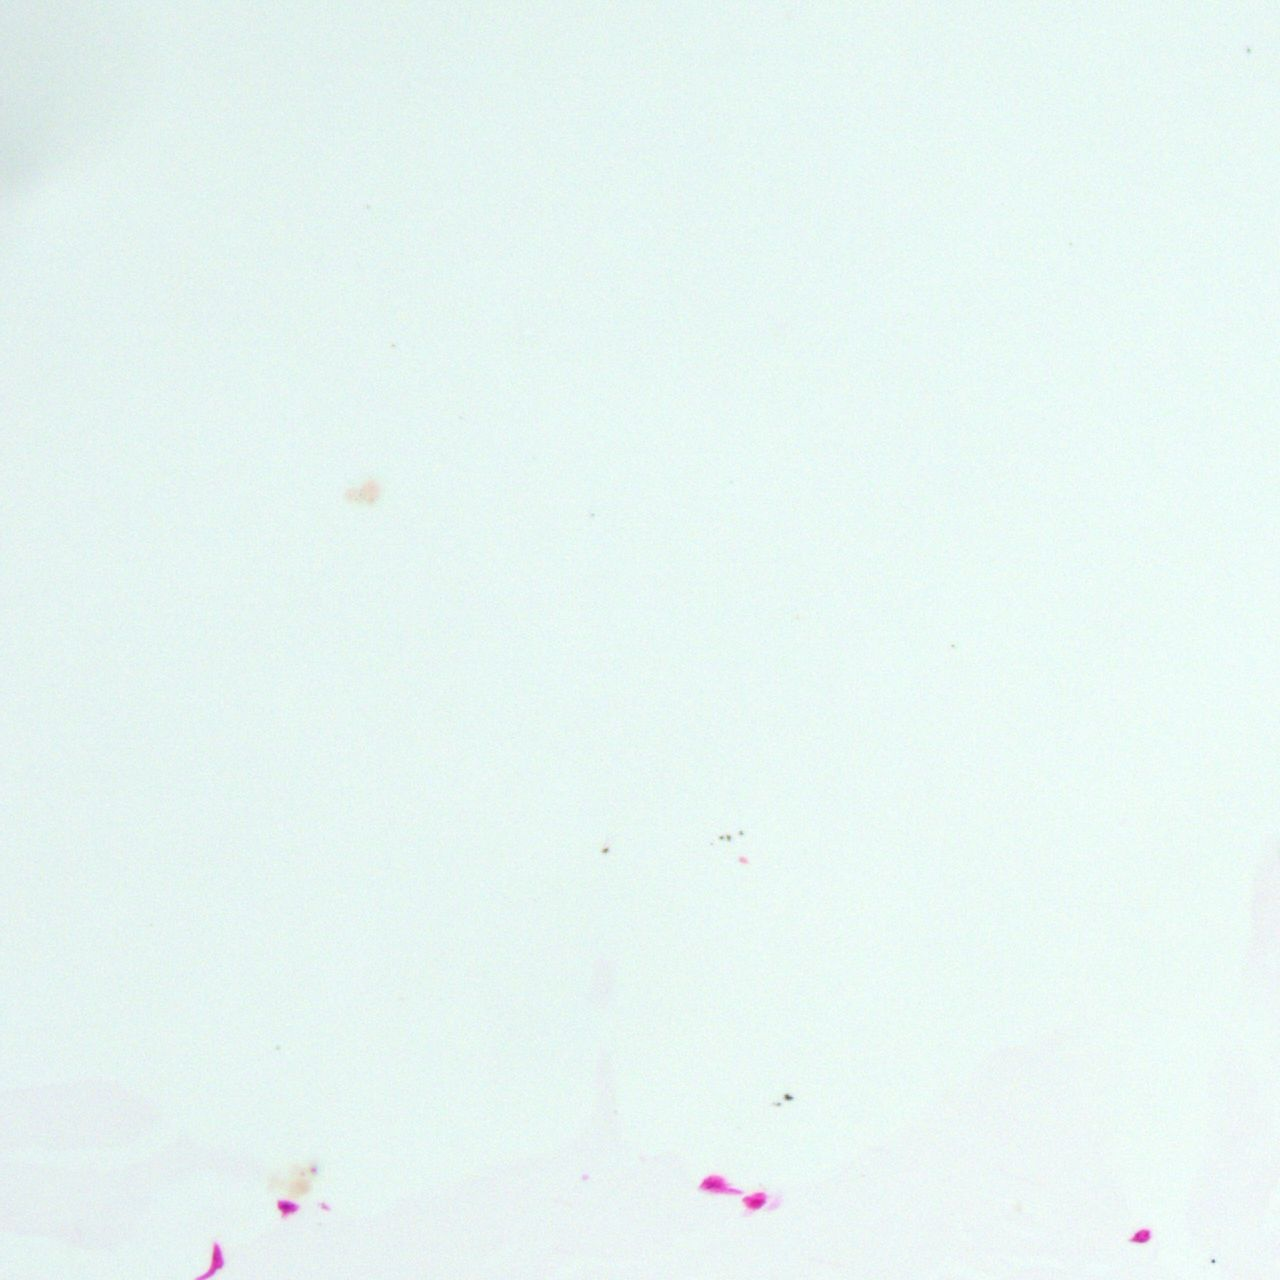dust: (284, 1163, 313, 1198), (346, 479, 379, 501), (719, 835, 730, 842), (784, 1092, 794, 1099), (602, 847, 608, 853)
nucleus-FG: (1133, 1228, 1149, 1242)
